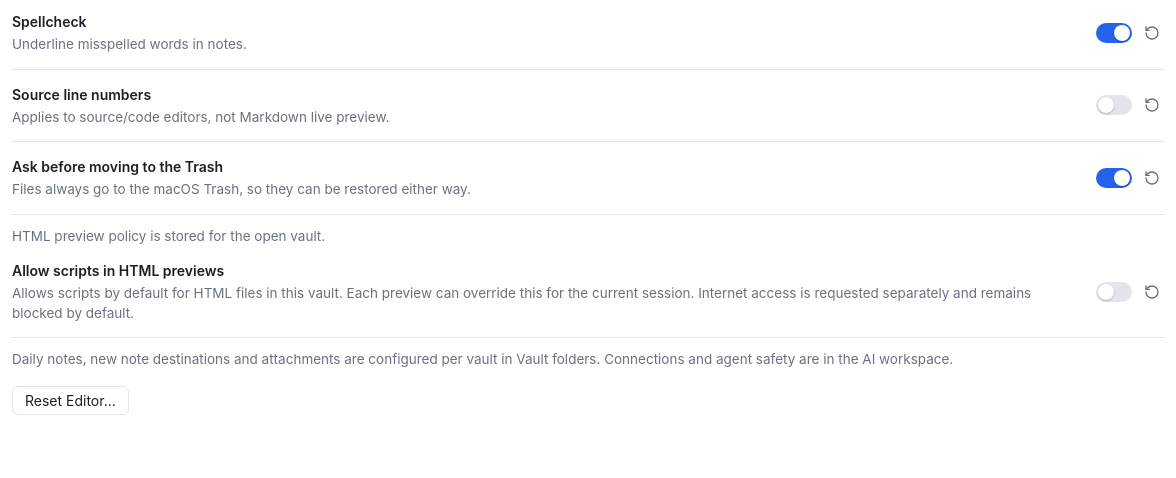
Test: a failed policy save keeps its value and exposes an associated retryable error
The width and height of the screenshot is (1176, 478).
Click the switch named "Allow scripts in HTML previews". click: {"x": 1114, "y": 292}
box: left=1096, top=282, right=1132, bottom=302
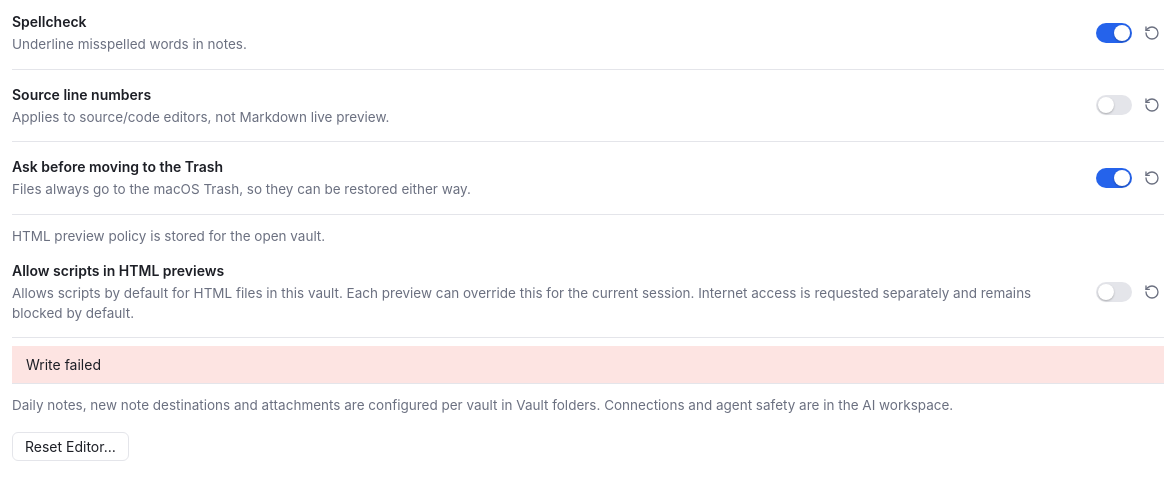
Result: the message reads "Write failed" at left=26, top=356, right=101, bottom=373
